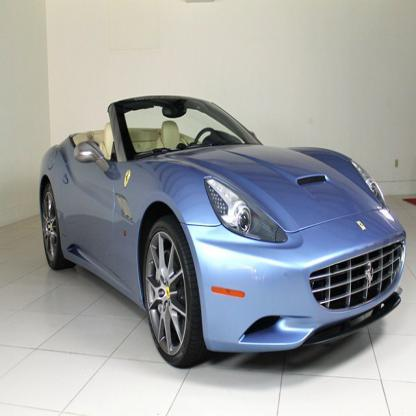Vehicle: (39, 96, 406, 370)
